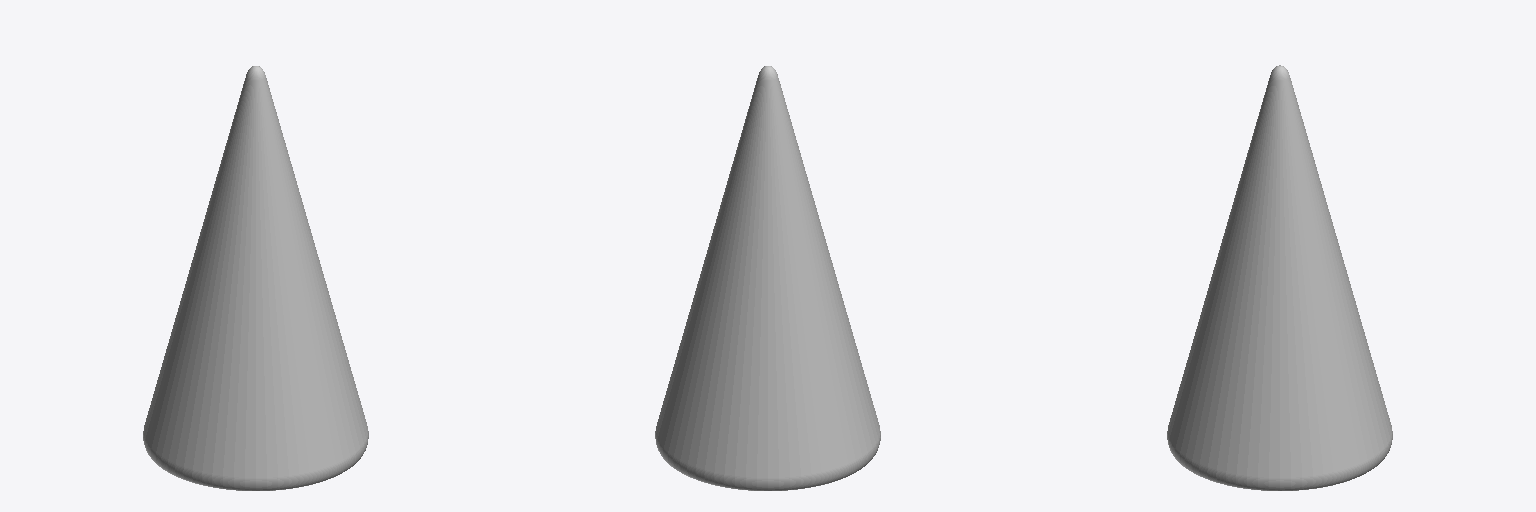
File: アセット 2.obj
The picture shows the model from 3 angles: view 1: azimuth 30°, elevation 25°; view 2: azimuth 150°, elevation 25°; view 3: azimuth 270°, elevation 25°; orthographic projection.
Parts seen in each view (by area): view 1: groupNumber_0; view 2: groupNumber_0; view 3: groupNumber_0.
Boxes of the visible parts, <box> form: groupNumber_0: <box>143,66,368,490</box>; groupNumber_0: <box>655,66,880,490</box>; groupNumber_0: <box>1167,65,1392,490</box>.
Size of the model in its own units: 4.12 by 7.65 by 4.12.